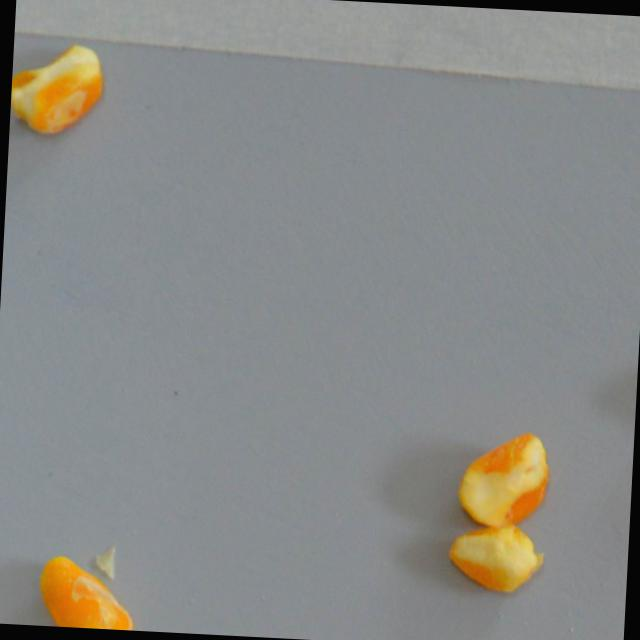pelicula: (9, 39, 109, 141), (454, 427, 550, 532), (37, 552, 137, 631), (444, 521, 546, 596)
